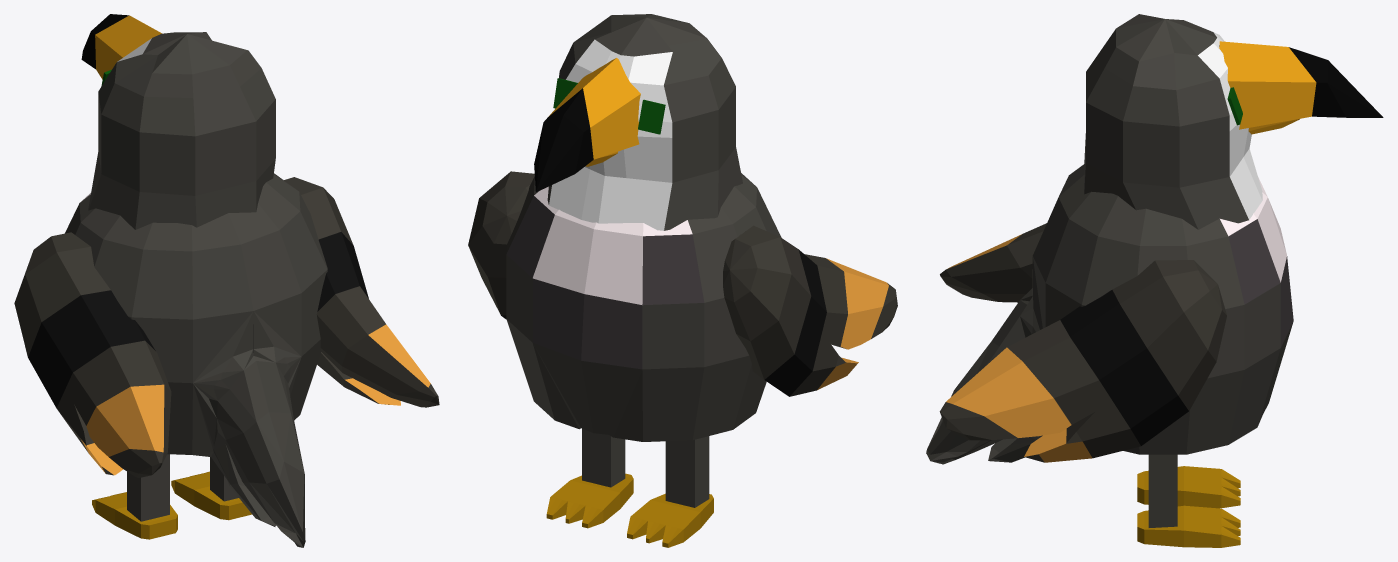
The model's file is TucanoDj.fbx.
3 renders of one model, left to right at view 1: azimuth 30°, elevation 25°; view 2: azimuth 150°, elevation 25°; view 3: azimuth 270°, elevation 25°, orthographic. The views are drawn at different scales.
Parts seen in each view (by area): view 1: Sphere.001, Sphere.002, Sphere.003, Cone, Cube.001, Cube.003; view 2: Sphere.001, Sphere.003, Sphere.002, Cone, Cube.003, Cube.001, Cube.004; view 3: Sphere.002, Sphere.001, Sphere.003, Cone, Cube.003, Cube.001.
Boxes of the visible parts, <box> form: Sphere.001: <box>65,173,327,547</box>; Sphere.002: <box>14,177,439,477</box>; Sphere.003: <box>88,32,275,229</box>; Cone: <box>81,14,161,79</box>; Cube.001: <box>92,492,177,539</box>; Cube.003: <box>171,471,251,520</box>; Sphere.001: <box>506,173,781,507</box>; Sphere.003: <box>547,14,742,230</box>; Sphere.002: <box>468,171,897,396</box>; Cone: <box>534,58,640,192</box>; Cube.003: <box>546,473,633,528</box>; Cube.001: <box>627,493,713,547</box>; Cube.004: <box>638,99,665,134</box>; Sphere.002: <box>939,223,1226,462</box>; Sphere.001: <box>926,164,1293,527</box>; Sphere.003: <box>1084,14,1262,229</box>; Cone: <box>1219,41,1383,129</box>; Cube.003: <box>1137,505,1240,547</box>; Cube.001: <box>1137,466,1240,508</box>.
Size of the model in its own units: 282 by 416 by 349.
